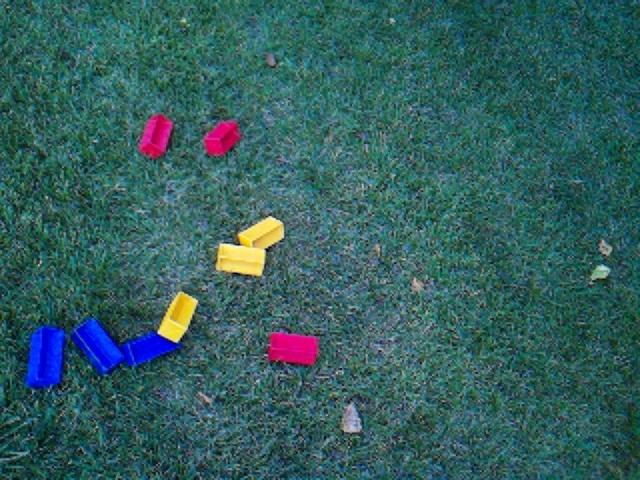blue: (71, 316, 125, 377), (25, 324, 66, 390), (120, 330, 183, 369)
red: (266, 330, 320, 367), (138, 112, 175, 160), (203, 118, 242, 158)
yellow: (157, 290, 200, 344), (216, 242, 267, 278), (237, 215, 286, 250)
